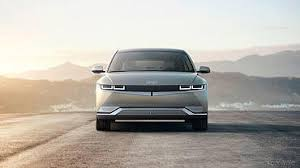Honda Ioniq: (81, 39, 218, 142)
